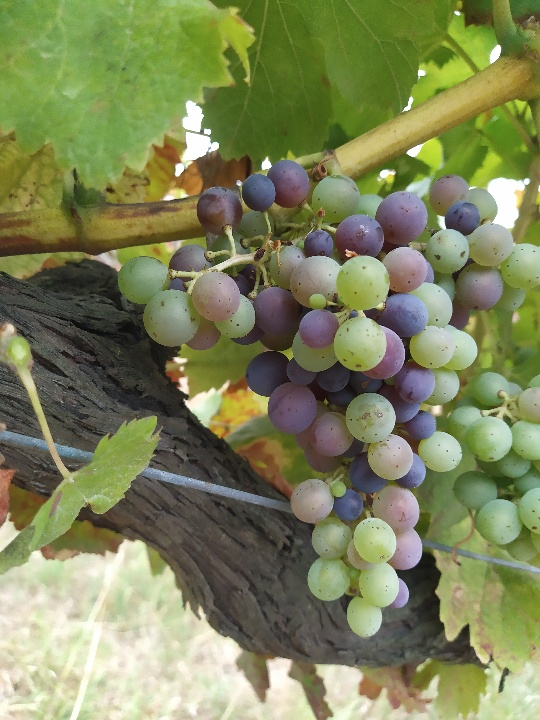grape: (116, 157, 540, 642)
